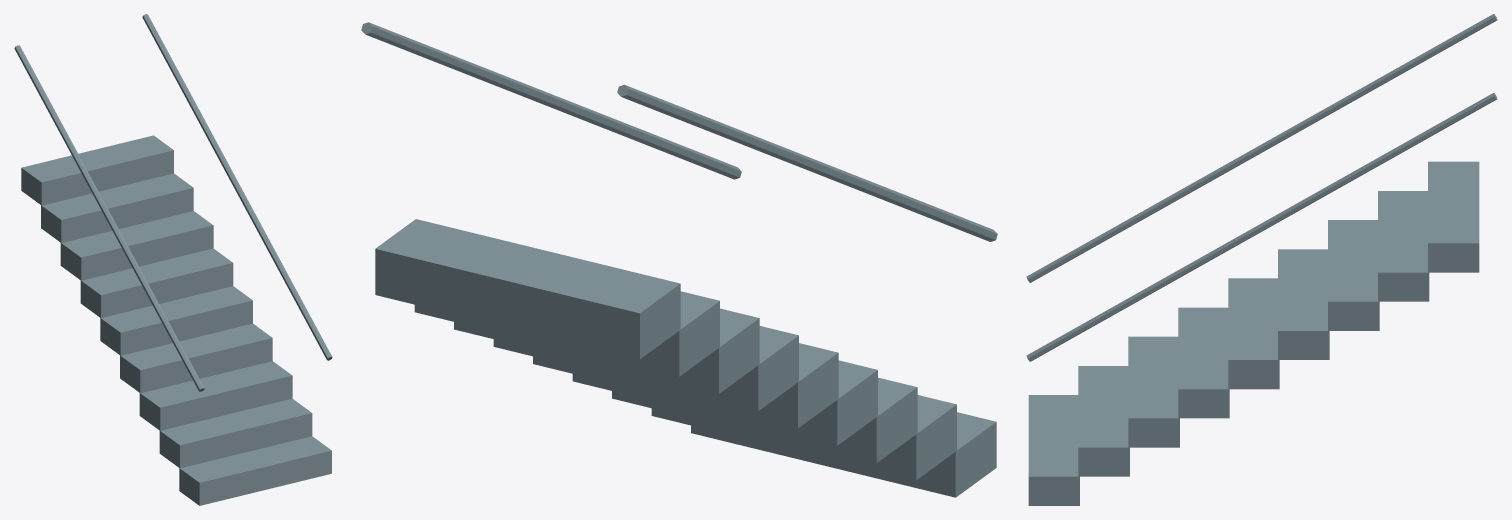
File: Hab_Stair_HalfStory.glb
The picture shows the model from 3 angles, left to right: view 1: azimuth 30°, elevation 25°; view 2: azimuth 150°, elevation 25°; view 3: azimuth 270°, elevation 25°; orthographic projection. The views are drawn at different scales.
Visible parts, largest first — view 1: Hab_Stair_HalfStory; view 2: Hab_Stair_HalfStory; view 3: Hab_Stair_HalfStory.
Boxes of the visible parts, box(x1,y1,x2,y2) form: Hab_Stair_HalfStory: box(14, 14, 332, 505); Hab_Stair_HalfStory: box(361, 22, 997, 497); Hab_Stair_HalfStory: box(1026, 14, 1497, 505).
Bounding box in the file's own units: 1.2 × 2.82 × 2.93.
